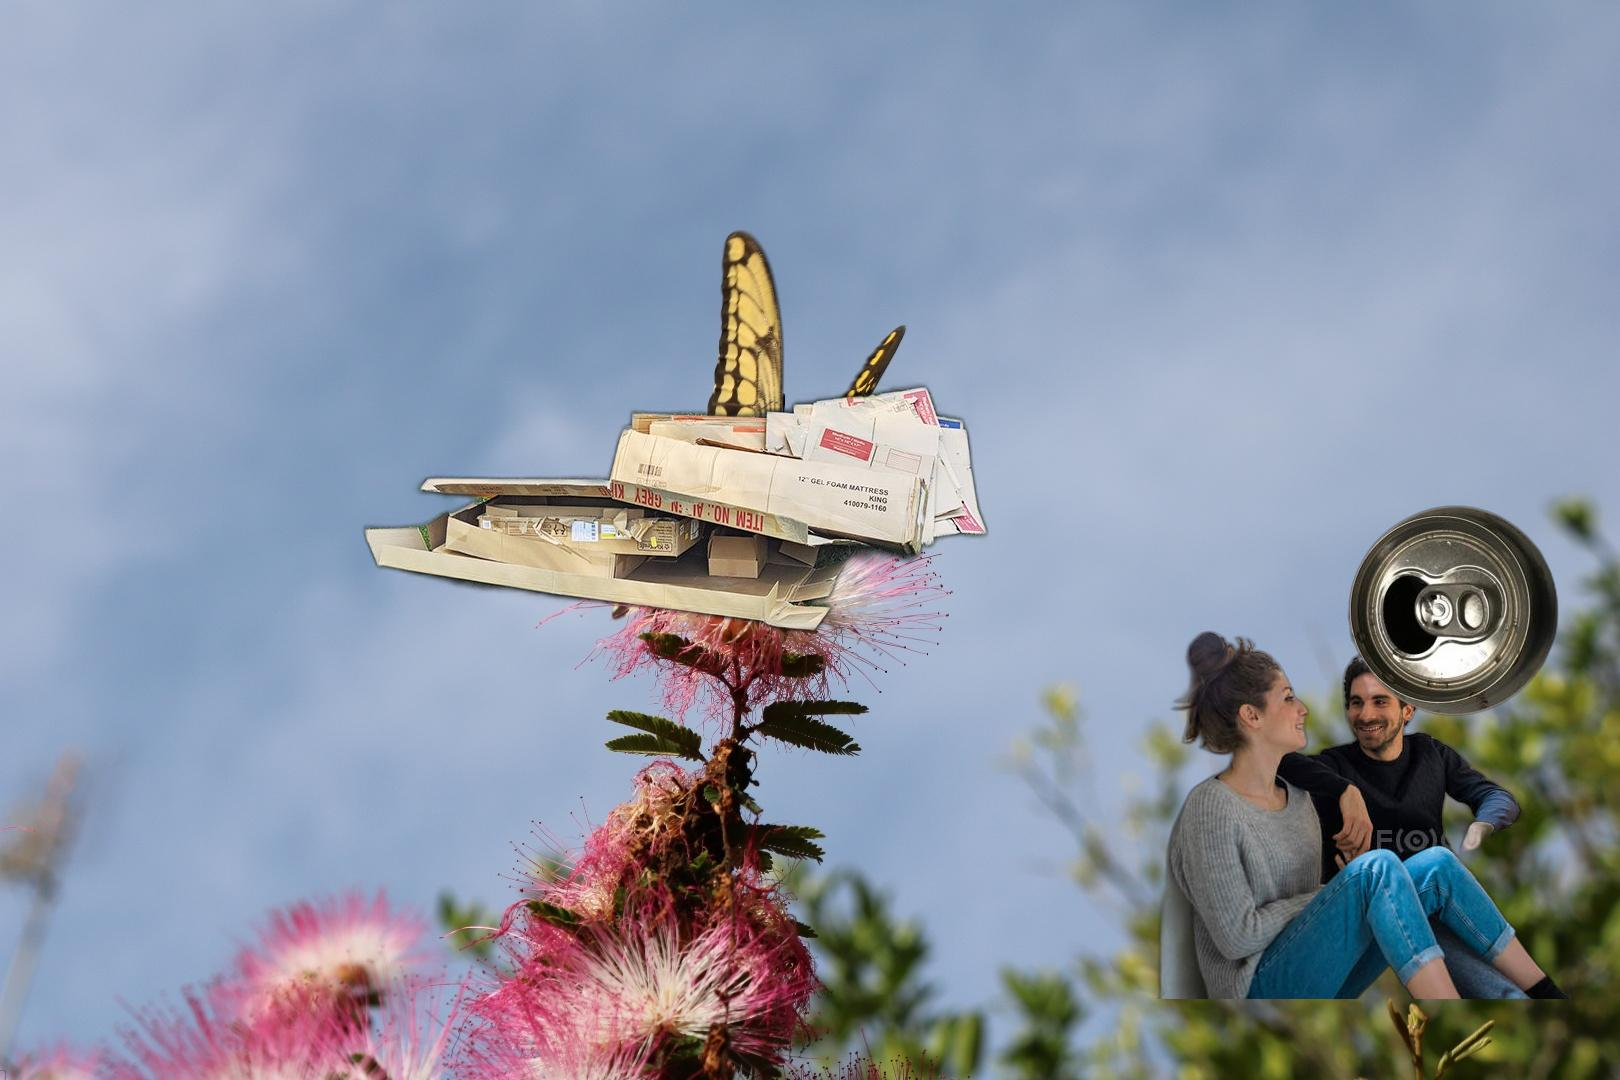metal-cans: (1345, 503, 1563, 717)
penholder: (1339, 1079, 1549, 1080)
trashbox-cardboard: (357, 369, 993, 641), (1134, 628, 1579, 999)
